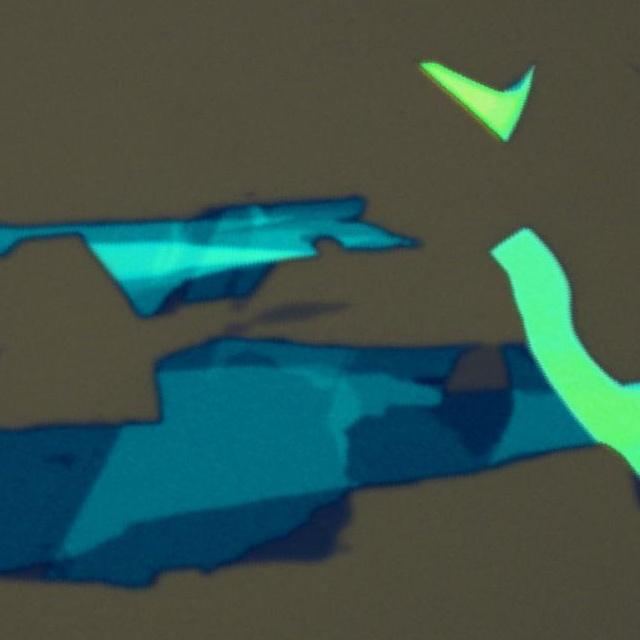monolayer-eWW4: (252, 293, 351, 330), (450, 344, 504, 392)
